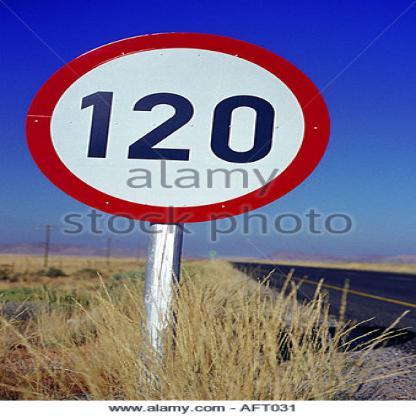Speed Limit 120: (31, 37, 327, 217)
